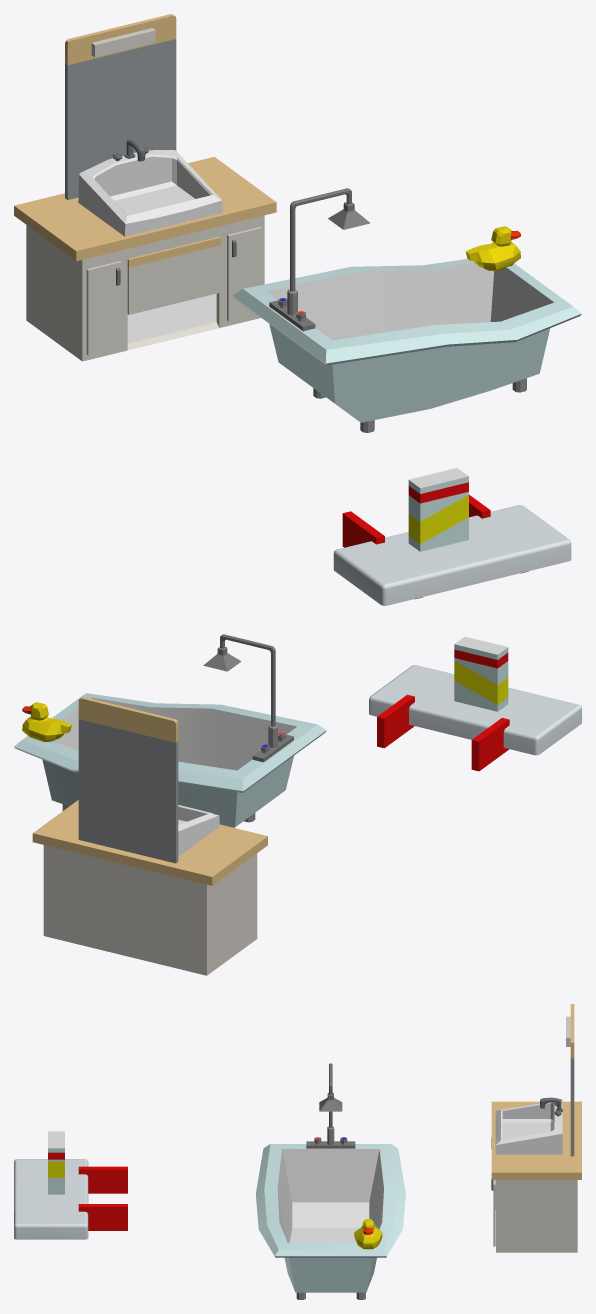
File: Level_3.fbx
3 views of the same model, one above another, from view 1: azimuth 30°, elevation 25°; view 2: azimuth 150°, elevation 25°; view 3: azimuth 270°, elevation 25° (orthographic). The views are drawn at different scales.
Parts seen in each view (by area): view 1: Tub, Baisn_box, Mirror, Stand, Basin, Soap_Box4, Tap, Duck2; view 2: Baisn_box, Tub, Mirror, Stand, Soap_Box4, Tap, Basin, Duck2; view 3: Tub, Baisn_box, Stand, Basin, Tap, Soap_Box4, Mirror, Duck2.
Boxes of the visible parts, left/top/right/bottom form: Tub: left=233, top=259, right=581, bottom=432; Baisn_box: left=14, top=156, right=276, bottom=361; Mirror: left=65, top=14, right=176, bottom=199; Stand: left=333, top=494, right=571, bottom=605; Basin: left=78, top=139, right=222, bottom=236; Soap_Box4: left=408, top=468, right=468, bottom=551; Tap: left=269, top=188, right=370, bottom=331; Duck2: left=465, top=226, right=520, bottom=271; Baisn_box: left=32, top=800, right=267, bottom=975; Tub: left=14, top=693, right=326, bottom=827; Mirror: left=78, top=697, right=178, bottom=863; Stand: left=369, top=665, right=581, bottom=771; Soap_Box4: left=454, top=636, right=508, bottom=711; Tap: left=203, top=634, right=293, bottom=762; Basin: left=178, top=805, right=219, bottom=856; Duck2: left=22, top=702, right=71, bottom=741; Tub: left=255, top=1144, right=405, bottom=1299; Baisn_box: left=491, top=1101, right=581, bottom=1252; Stand: left=14, top=1159, right=127, bottom=1239; Basin: left=495, top=1097, right=562, bottom=1154; Tap: left=306, top=1063, right=355, bottom=1148; Soap_Box4: left=48, top=1131, right=64, bottom=1194; Mirror: left=566, top=1004, right=574, bottom=1156; Duck2: left=354, top=1219, right=382, bottom=1249.
Size of the model in its own units: 6.49 by 4.51 by 11.57.
